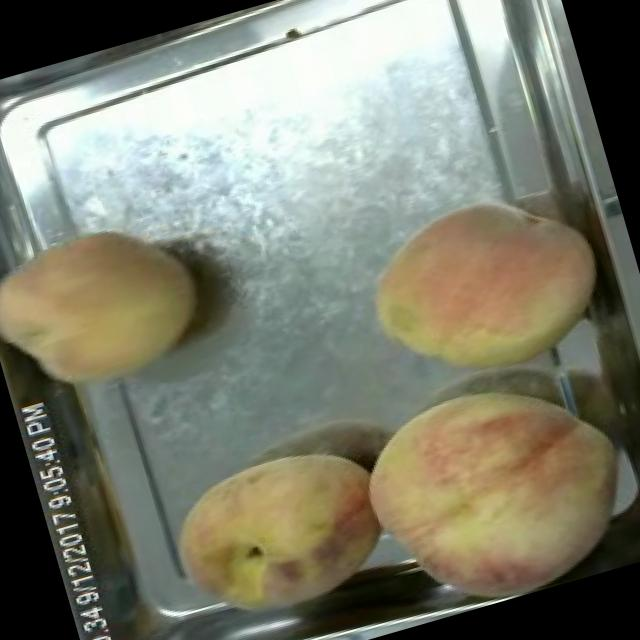Fruit: (335, 342, 640, 631), (339, 165, 630, 416), (144, 420, 409, 640), (0, 197, 229, 423)
